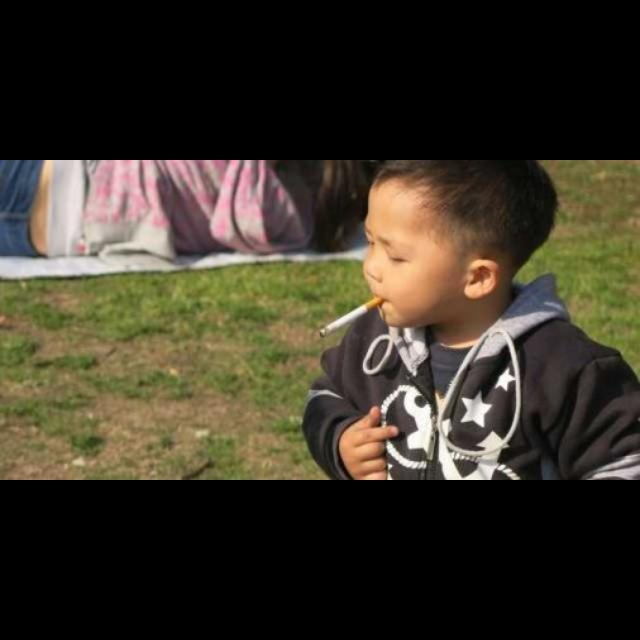rokok: (318, 294, 384, 340)
